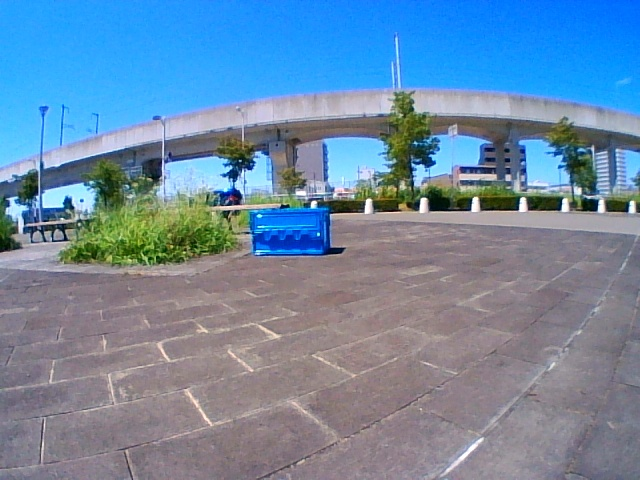blue_box: (253, 208, 331, 252)
tag: (323, 221, 326, 242)
